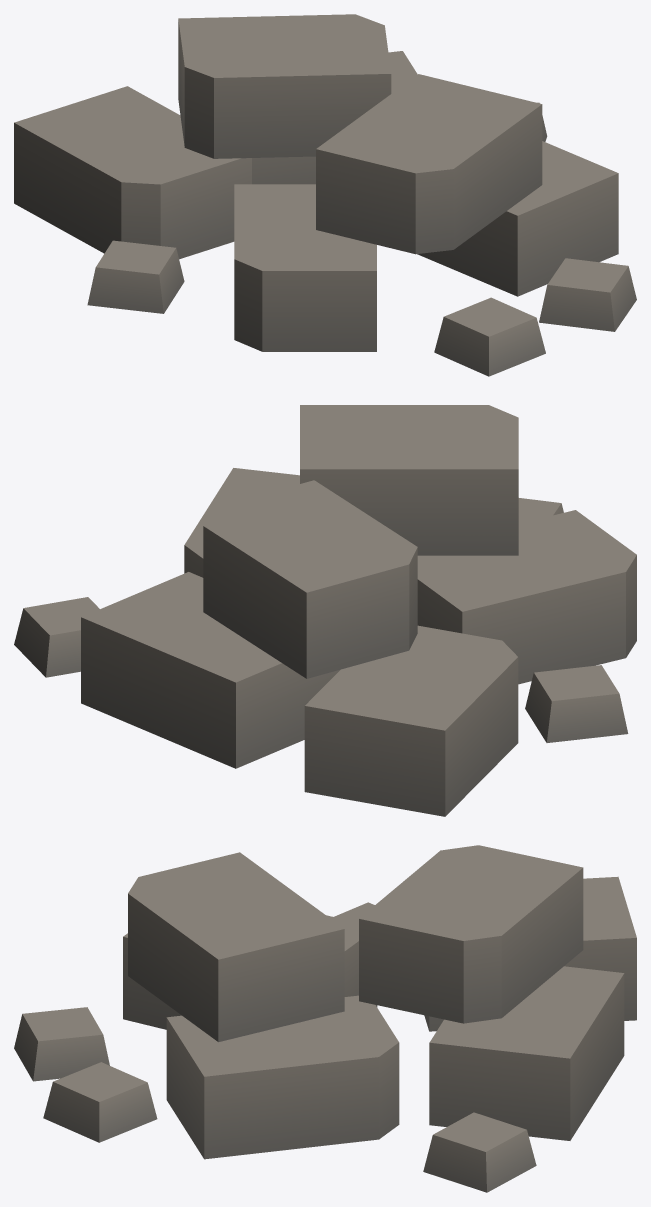
File: debris.glb
The picture shows the model from 3 angles, top to bottom: view 1: azimuth 30°, elevation 25°; view 2: azimuth 150°, elevation 25°; view 3: azimuth 270°, elevation 25°; orthographic projection. The views are drawn at different scales.
Parts seen in each view (by area): view 1: debris; view 2: debris; view 3: debris.
Boxes of the visible parts, <box> form: debris: <box>14,14,636,376</box>; debris: <box>14,405,636,816</box>; debris: <box>14,845,636,1192</box>.
Size of the model in its own units: 0.5362 by 0.16 by 0.5473.
Materials: 1 (1 with a texture image).
